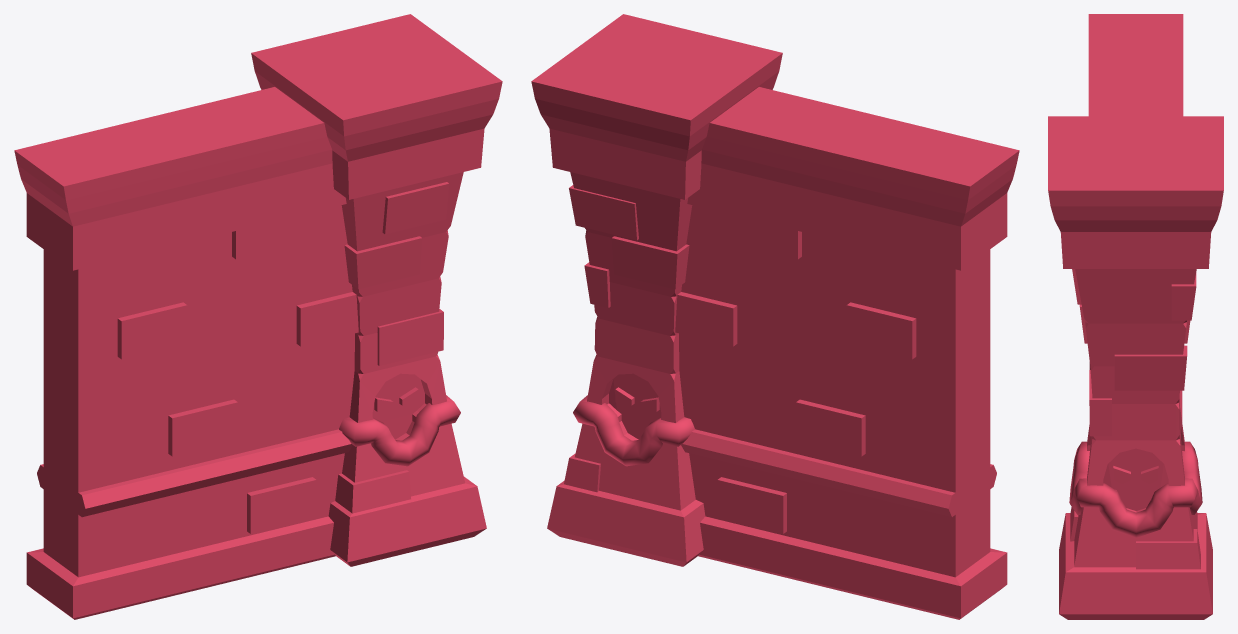
File: SM_ARCH_Wall.fbx
The picture shows the model from 3 angles, left to right: view 1: azimuth 30°, elevation 25°; view 2: azimuth 150°, elevation 25°; view 3: azimuth 270°, elevation 25°; orthographic projection. The views are drawn at different scales.
Parts seen in each view (by area): view 1: m_Wall_low; view 2: m_Wall_low; view 3: m_Wall_low.
Part boxes in pixels (x1=…): m_Wall_low: x1=14, y1=14, x2=502, y2=619; m_Wall_low: x1=531, y1=14, x2=1019, y2=619; m_Wall_low: x1=1048, y1=14, x2=1223, y2=619.
Bounding box in the file's own units: 696 × 730 × 266.
